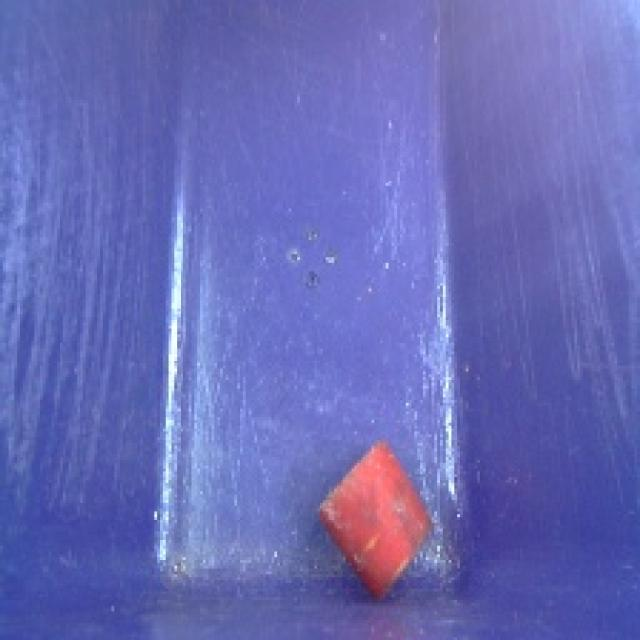carrots: (308, 433, 450, 615)
